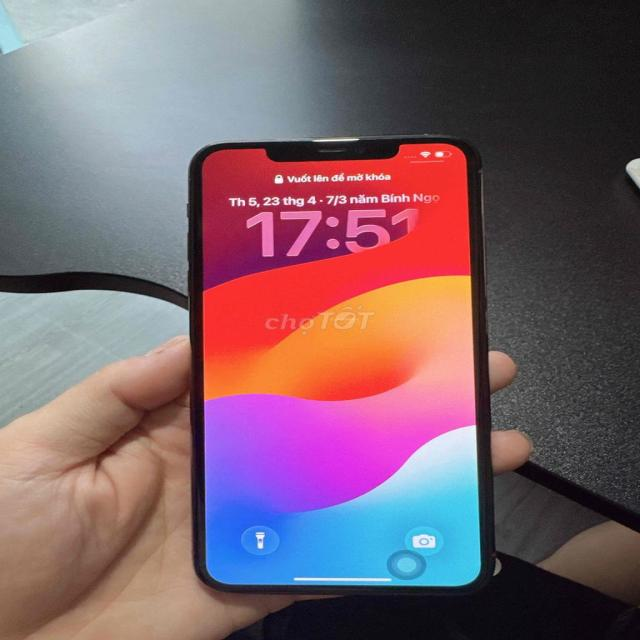gen_11: (178, 132, 510, 604)
